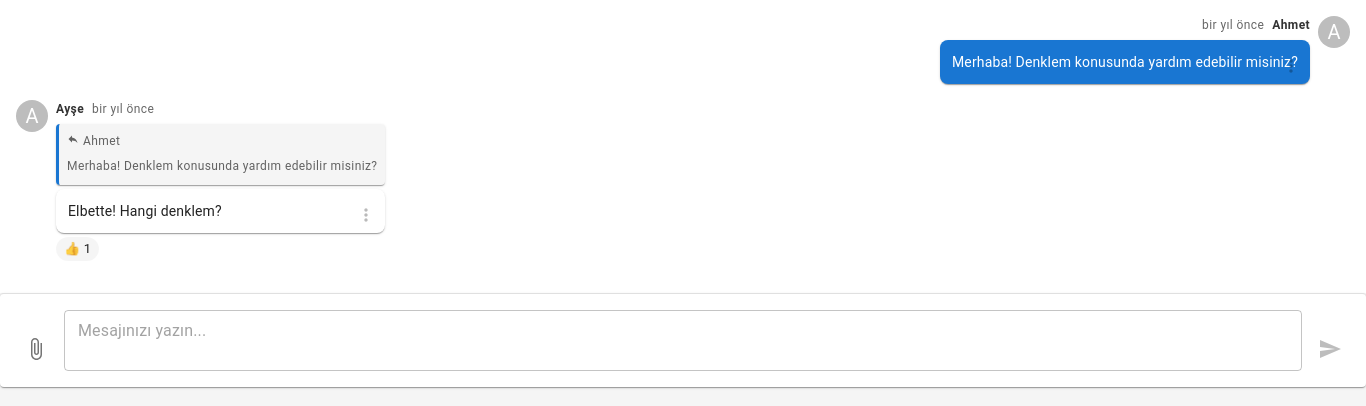
ChatInterface Component › Message Reactions › shows reaction menu with multiple options
Click the 1st button named "more" at (1291, 66), box left=1276, top=44, right=1306, bottom=88
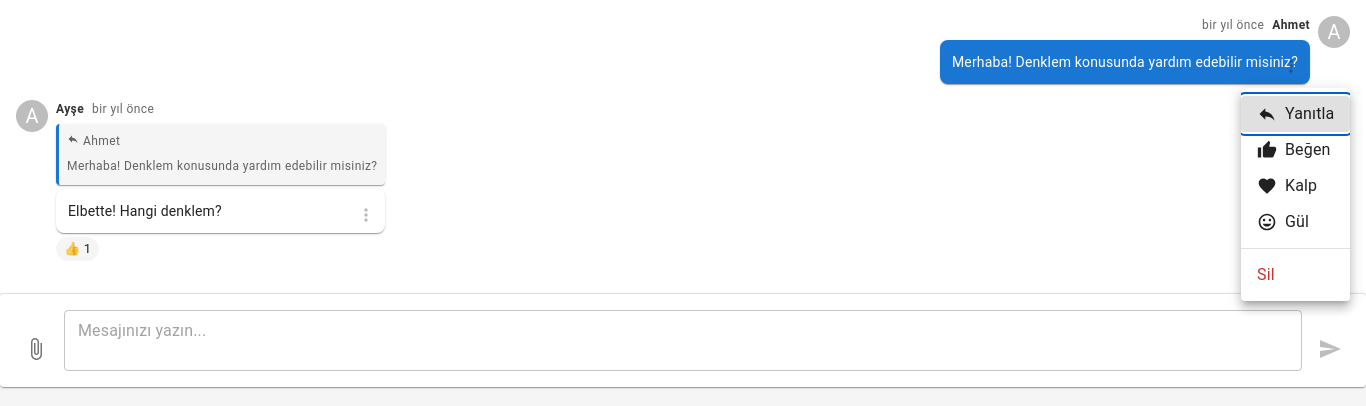
Check: the menu item "Beğen" is shown, box left=1257, top=140, right=1330, bottom=160
Check: the menu item "Kalp" is shown, box left=1257, top=176, right=1317, bottom=196
Check: the menu item "Gül" is shown, box left=1257, top=212, right=1309, bottom=232
